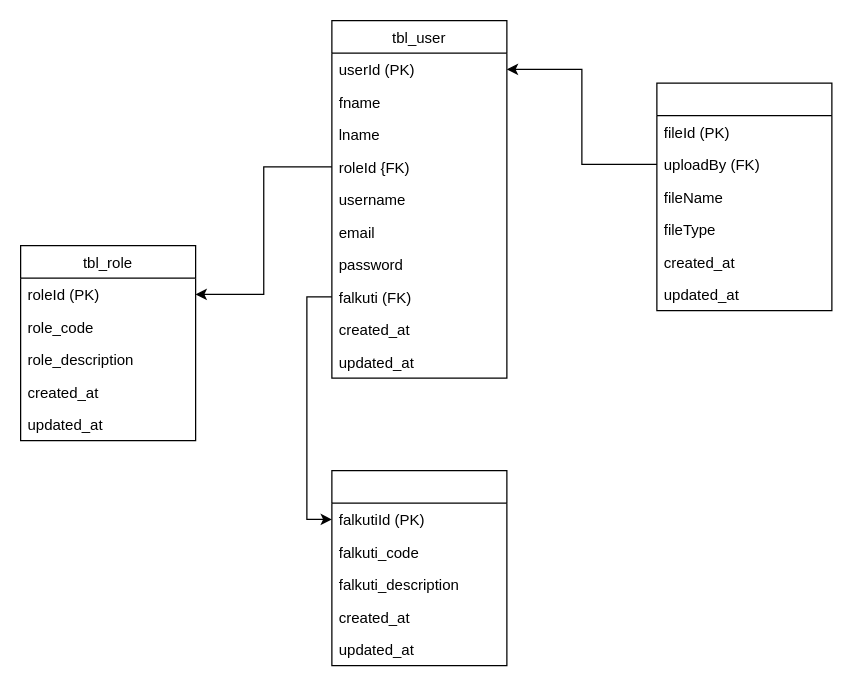
This 853x686 diagram has some shape labels left out. The shapes that lost their labels are listed below. From the top down, each one's box as (x1, y1, x2, y2) in pixels, then its label:
(656, 82, 832, 311): tbl_file
(331, 469, 507, 666): tbl_falkuti
